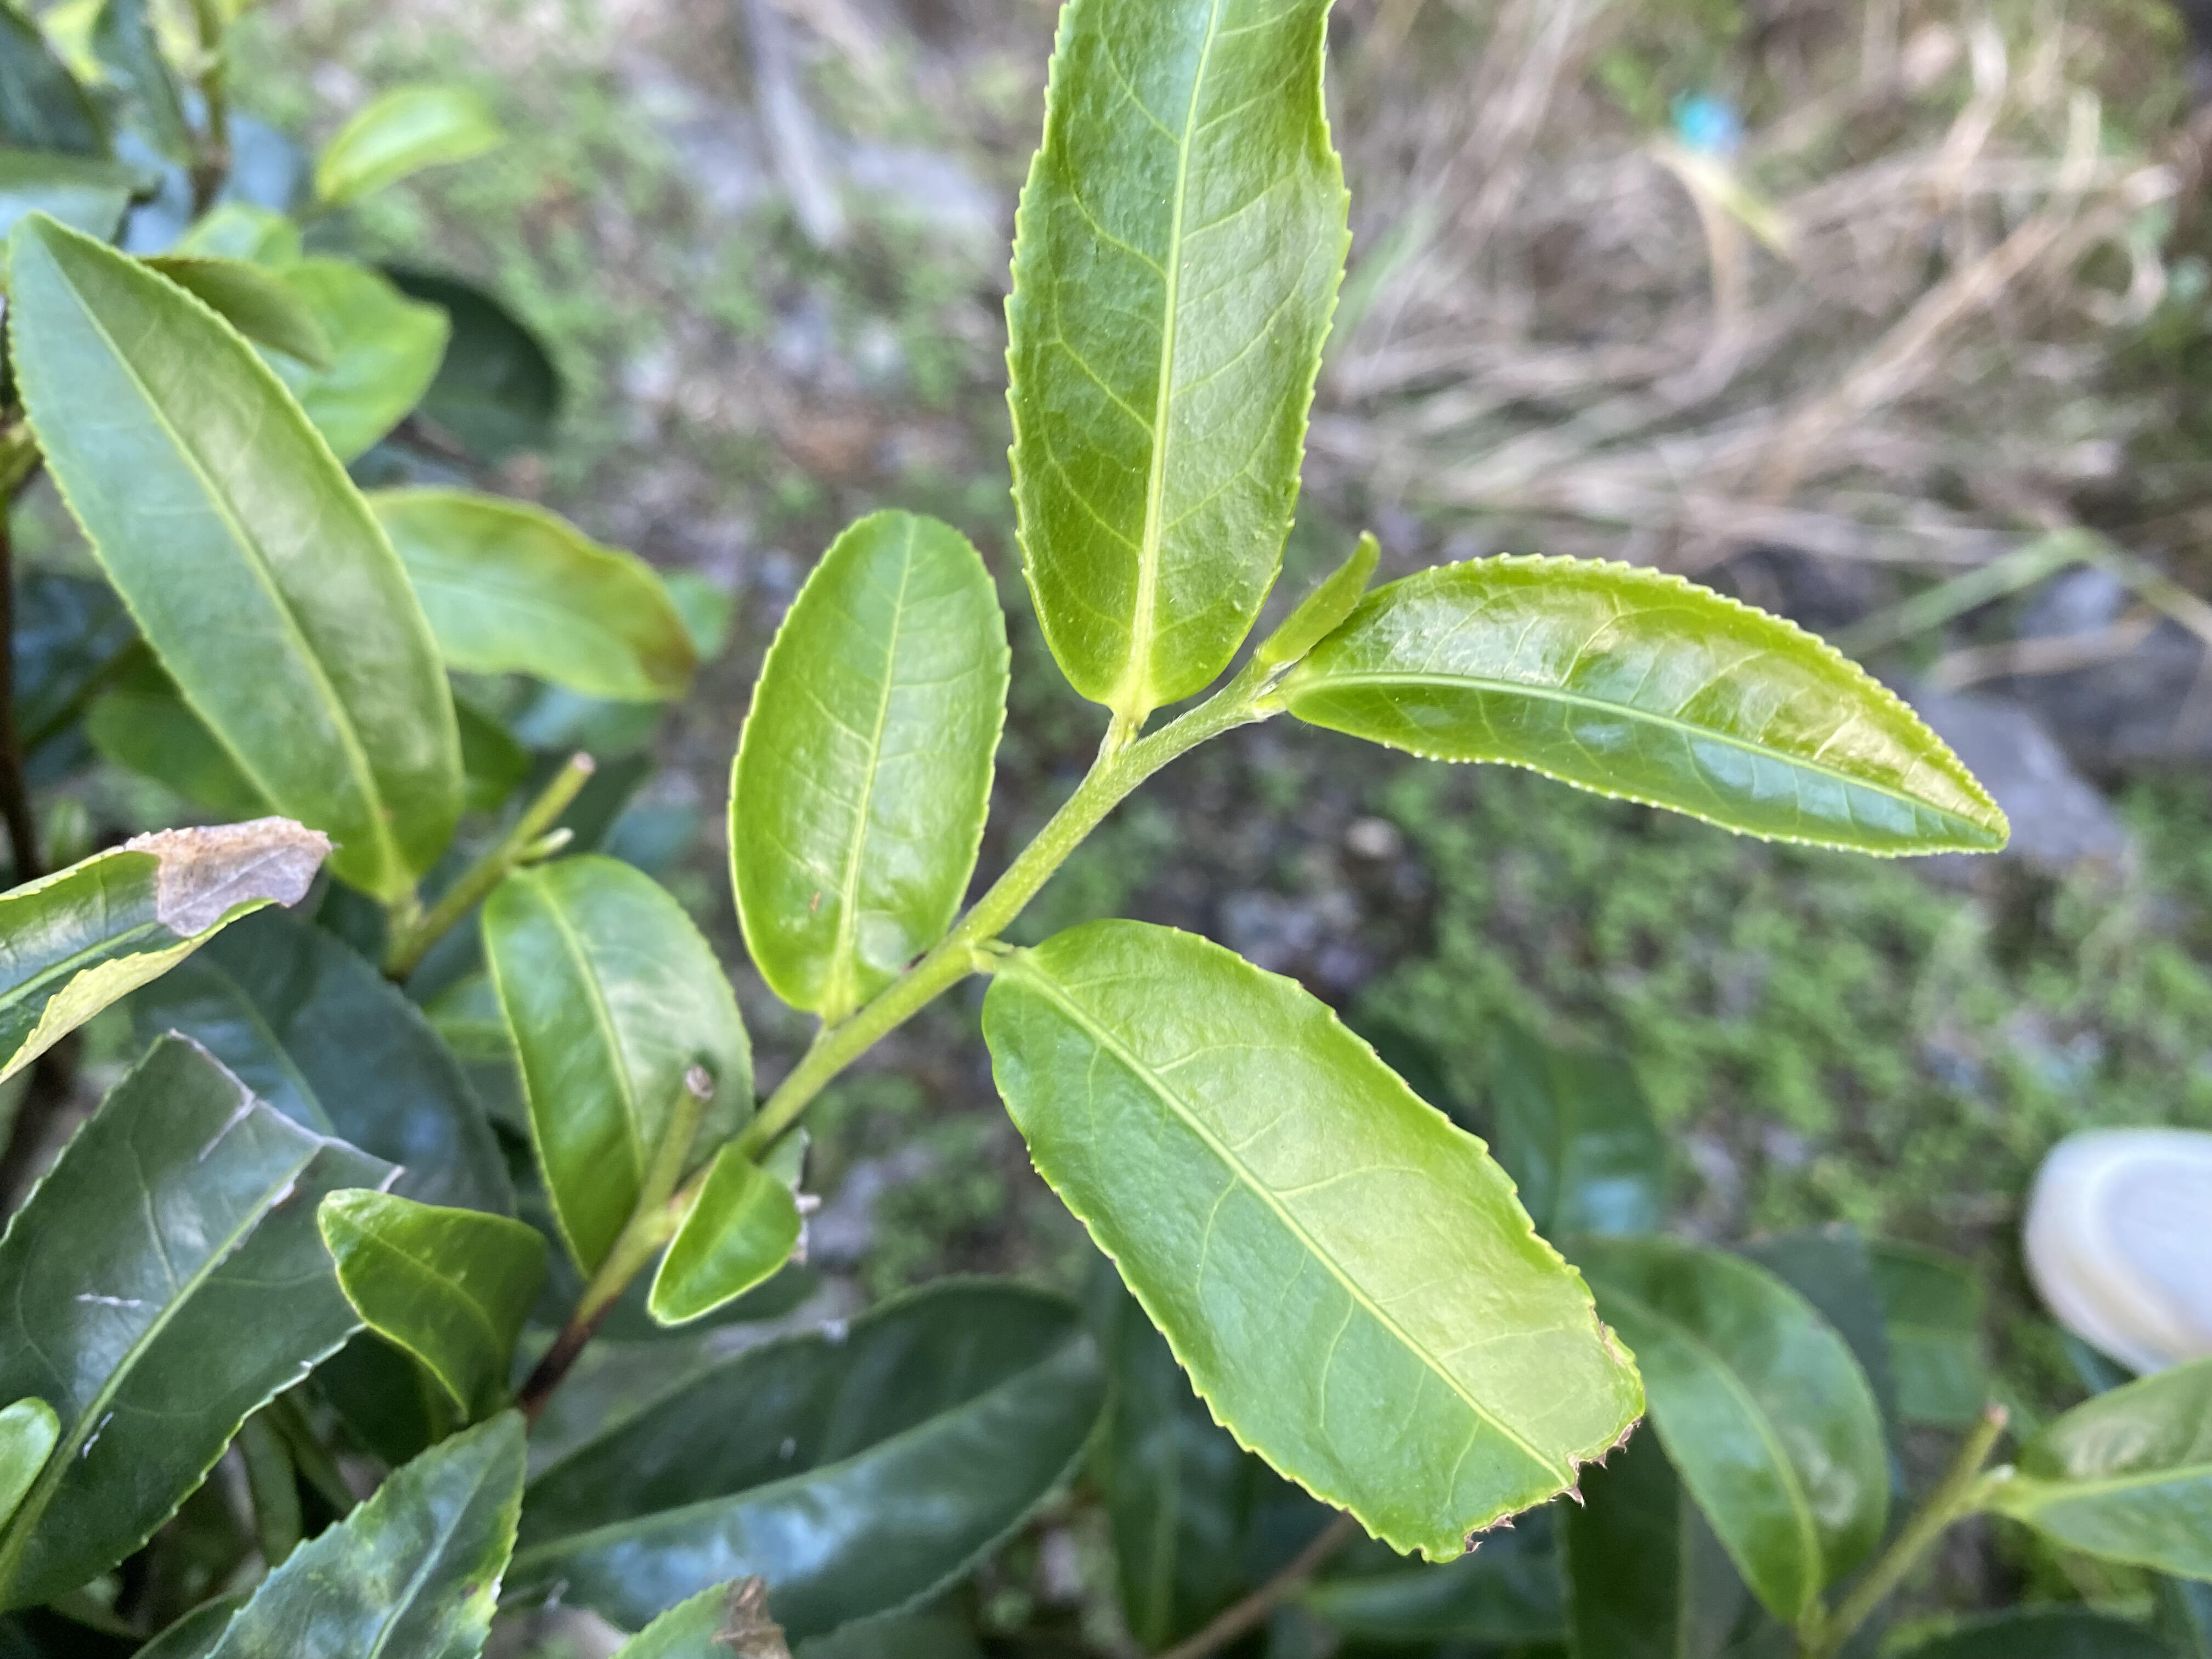chihuo_high: (3, 1028, 406, 1614)
chihuo_low: (979, 915, 1648, 1568)
healthy: (3, 204, 470, 899), (1001, 2, 1357, 720), (1287, 547, 2015, 864), (723, 507, 1014, 1012)
tanju_high: (3, 812, 331, 1084)
